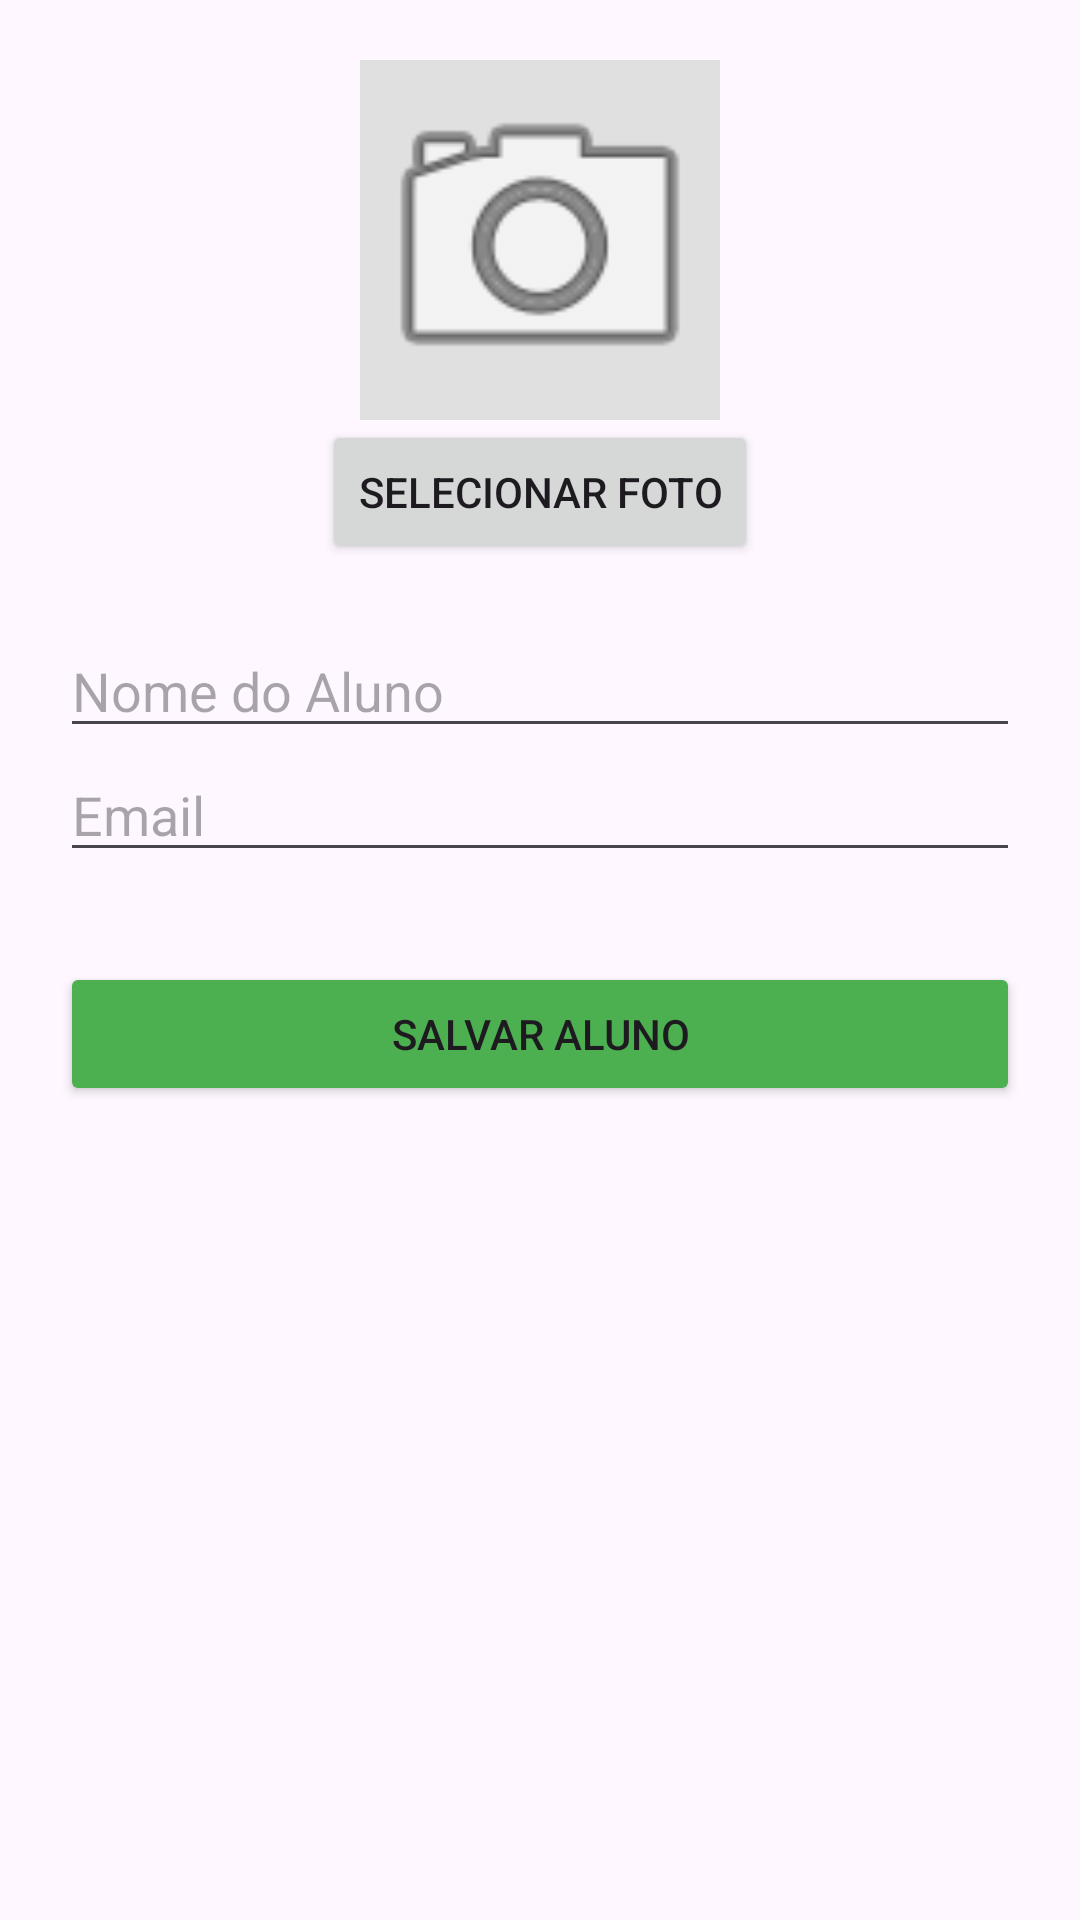

Screen size 1080x1920. Icon name, then its center in pixels as (x=x, y=y):
camera: (x=540, y=240)
